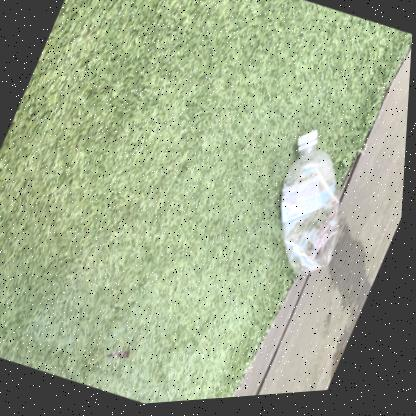Plastic: (282, 135, 341, 279)
